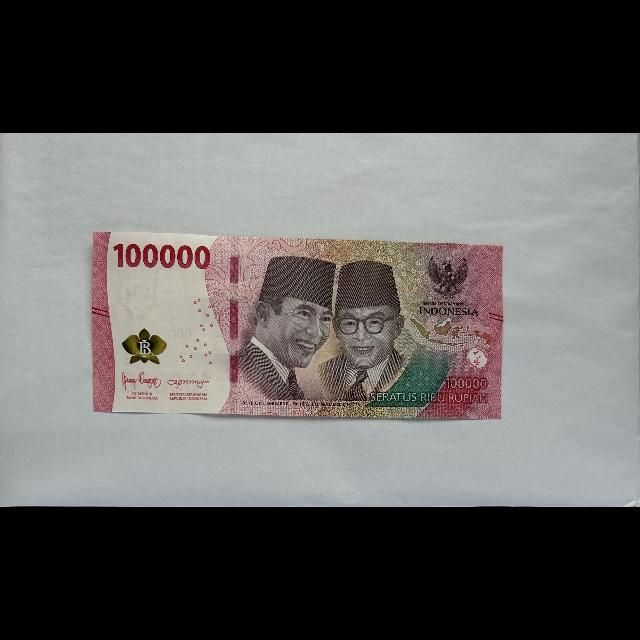Asli-100k: (91, 231, 503, 422)
Tinta-Asli-100k: (121, 327, 168, 366)
